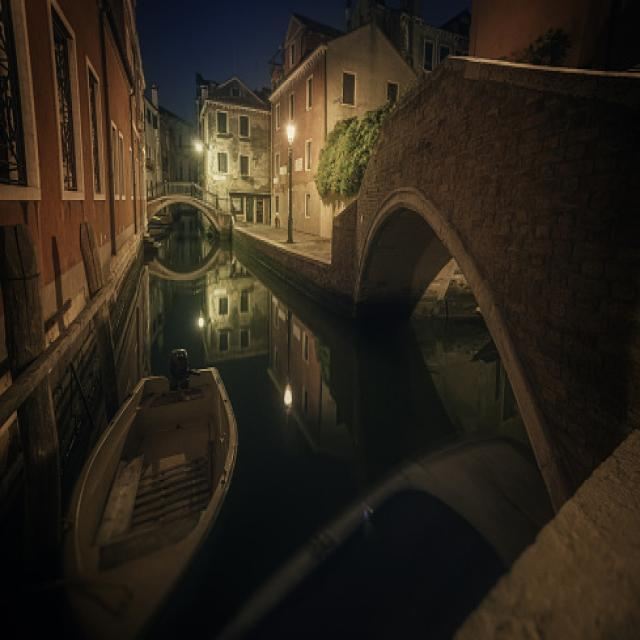Boat: (50, 326, 251, 640)
